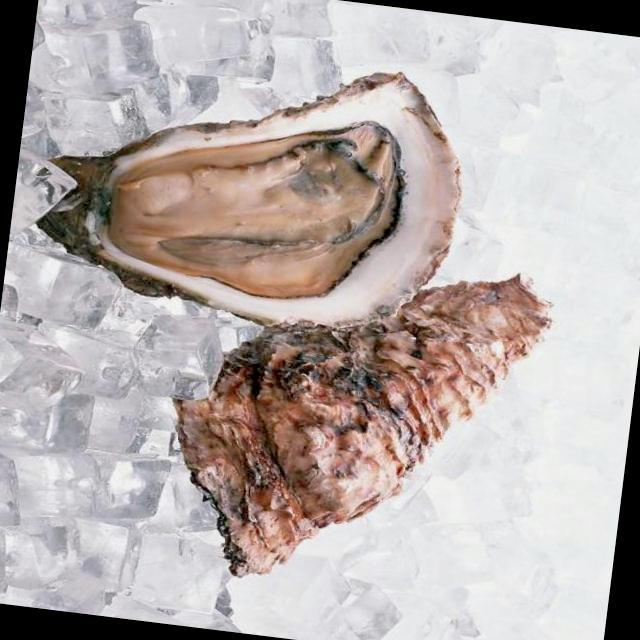Oyster-Closed: (176, 275, 550, 576)
Oyster-Open: (38, 74, 460, 324)
